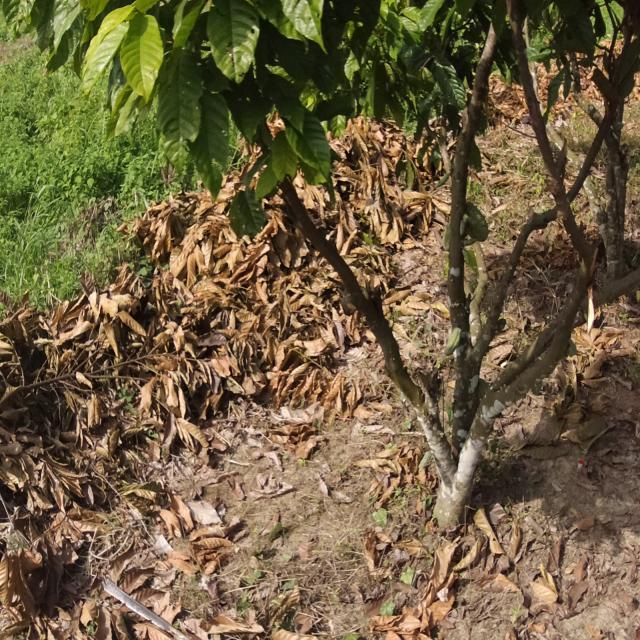Immature: (443, 326, 465, 361)
Mature_Unripe: (459, 201, 491, 244)
